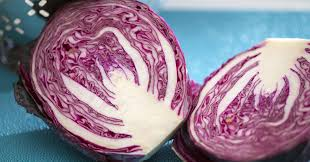cabbage: (32, 5, 193, 160), (188, 32, 310, 156)
